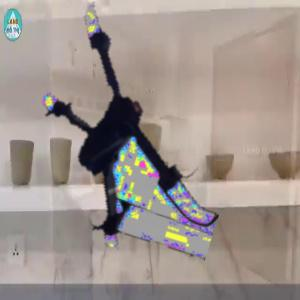drone: (2, 8, 242, 248)
